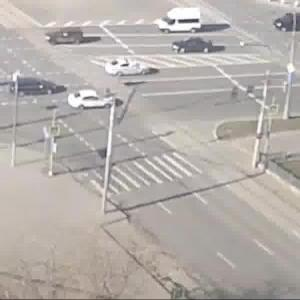car: (149, 11, 208, 33), (69, 89, 119, 110), (9, 76, 59, 97), (103, 59, 152, 79), (46, 28, 86, 48), (171, 38, 216, 55), (271, 13, 300, 32)
